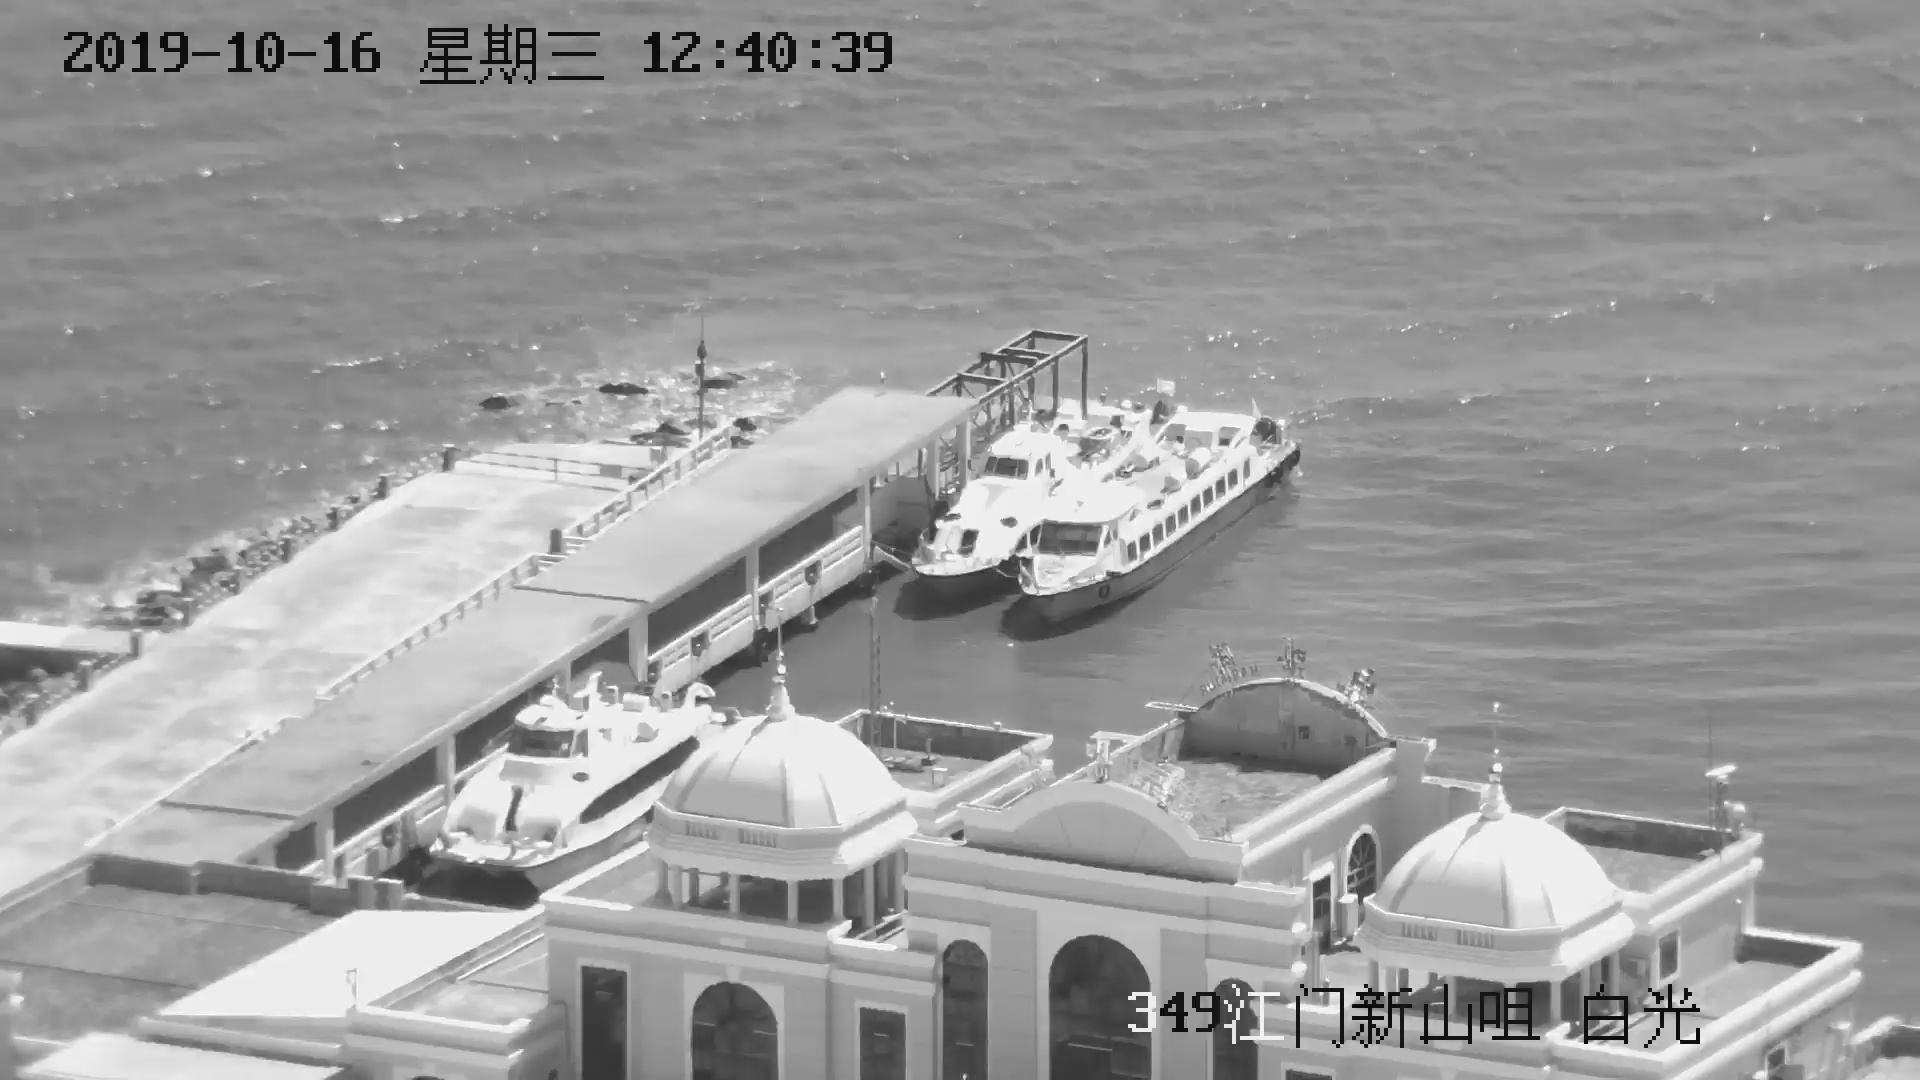ship: (1015, 382, 1303, 634), (419, 686, 727, 884), (903, 410, 1084, 585)
